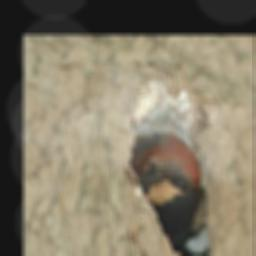Swallow: (129, 133, 203, 250)
